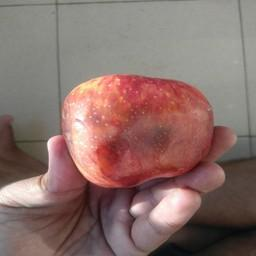Bad_apple: (56, 71, 212, 188)
